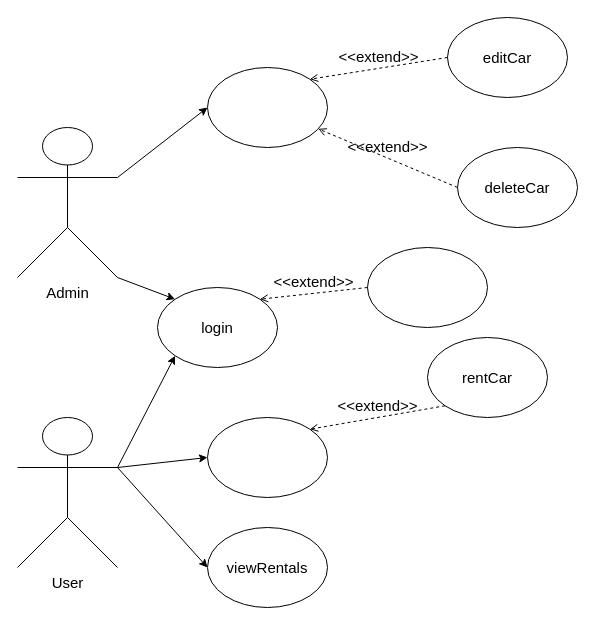
The diagram is 595 pixels wide and 625 high, and some of its shapes have lost their labels. The shapes that lost their labels are listed below. From the top down, each one's centre as x and y in pixels, then its label:
At point (267, 107): "addCar".
At point (427, 287): "logout".
At point (267, 457): "viewCar".
